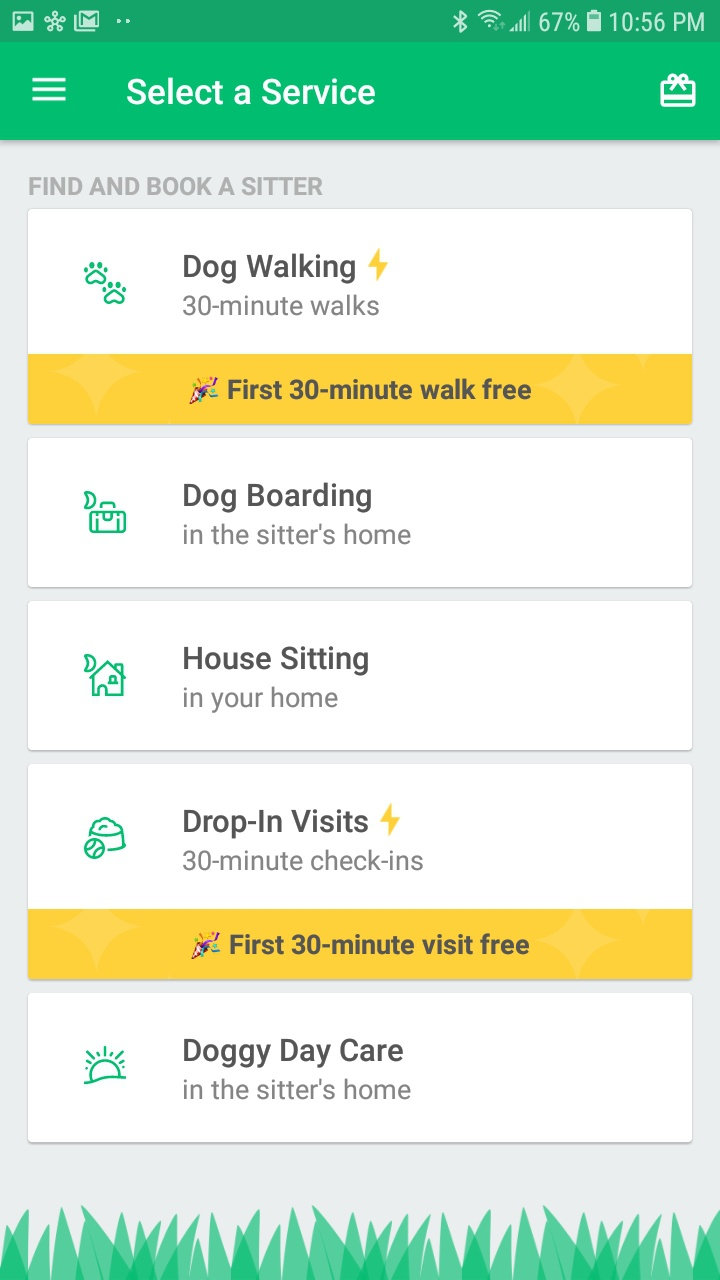Icon: (85, 490, 128, 534), (84, 654, 127, 697), (659, 73, 696, 109), (32, 78, 68, 103)
Image: (1, 1204, 720, 1279), (84, 261, 128, 305), (84, 816, 127, 860), (82, 1043, 127, 1085), (189, 376, 219, 405), (191, 932, 222, 960), (379, 803, 401, 837), (368, 248, 389, 282)
Text: (127, 78, 376, 107), (228, 378, 532, 401), (230, 933, 530, 956), (184, 1038, 404, 1069), (184, 482, 372, 514), (29, 177, 324, 197), (184, 646, 369, 677), (184, 809, 369, 840), (183, 849, 424, 872), (184, 253, 356, 285), (184, 523, 412, 546), (184, 1077, 412, 1100), (184, 686, 339, 714), (183, 295, 380, 317)
UpperTaskBar: (1, 1, 720, 43)
